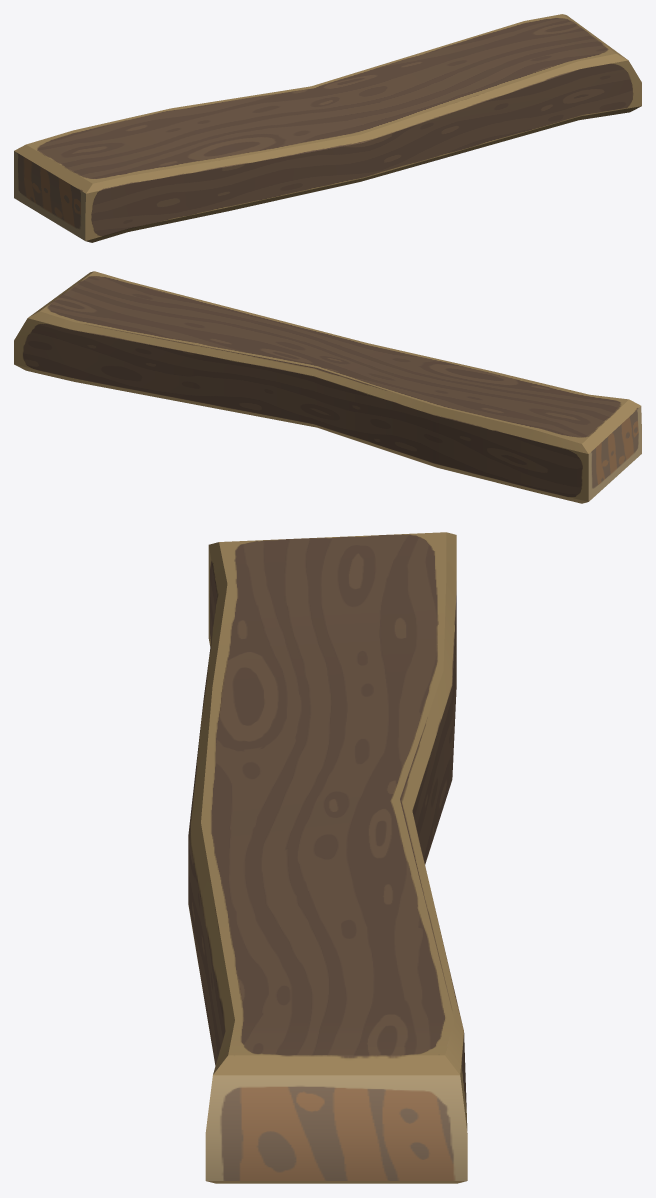
Rendered from Tablon3.fbx.
The picture shows the model from 3 angles, top to bottom: view 1: azimuth 30°, elevation 25°; view 2: azimuth 150°, elevation 25°; view 3: azimuth 270°, elevation 25°; orthographic projection. The views are drawn at different scales.
Parts seen in each view (by area): view 1: Tablon3; view 2: Tablon3; view 3: Tablon3.
Boxes of the visible parts, x1=… form: Tablon3: x1=14, y1=14, x2=641, y2=242; Tablon3: x1=14, y1=271, x2=641, y2=503; Tablon3: x1=188, y1=532, x2=467, y2=1183.
Size of the model in its own units: 1.92 by 0.2001 by 0.4105.
